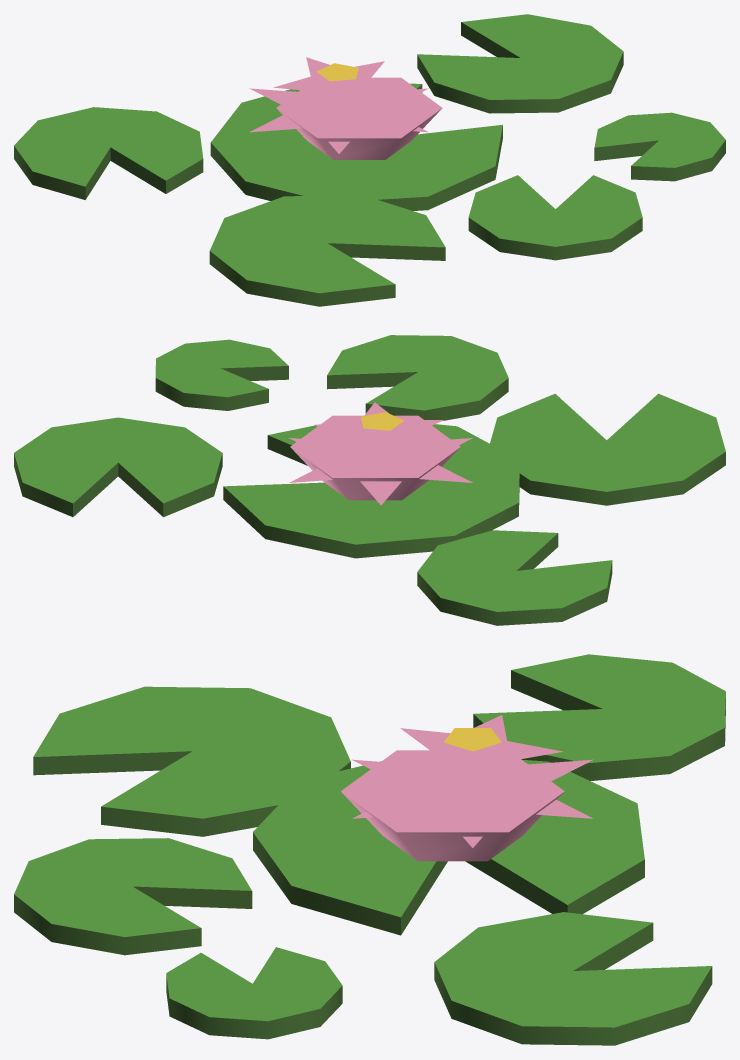
File: lily_pad.glb
The picture shows the model from 3 angles, top to bottom: view 1: azimuth 30°, elevation 25°; view 2: azimuth 150°, elevation 25°; view 3: azimuth 270°, elevation 25°; orthographic projection. The views are drawn at different scales.
Visible parts, largest first — view 1: lily_pad; view 2: lily_pad; view 3: lily_pad.
Boxes of the visible parts, left/top/right/bottom form: lily_pad: left=14, top=14, right=725, bottom=306; lily_pad: left=14, top=335, right=725, bottom=625; lily_pad: left=14, top=654, right=725, bottom=1045.
Bounding box in the file's own units: 0.8827 × 0.118 × 0.7117.
1 material, 1 textured.
